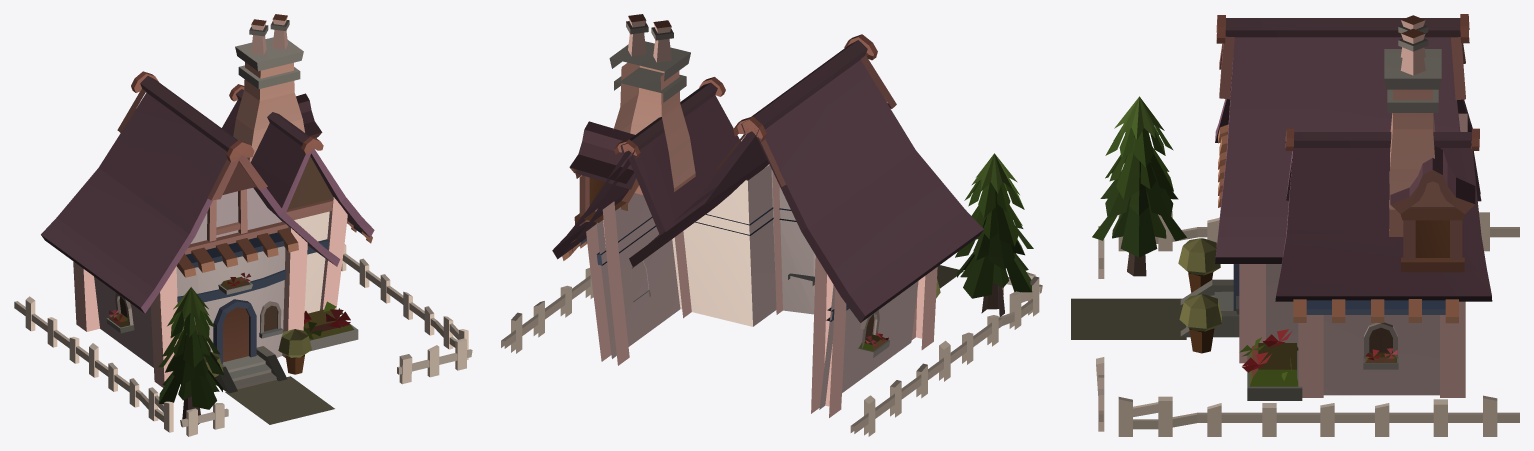
Rendered from building43.fbx.
3 renders of one model, left to right at view 1: azimuth 30°, elevation 25°; view 2: azimuth 150°, elevation 25°; view 3: azimuth 270°, elevation 25°, orthographic. The views are drawn at different scales.
Parts seen in each view (by area): view 1: building43; view 2: building43; view 3: building43.
Part boxes in pixels (x1,y1,x2,y2): building43: (14, 14, 472, 436); building43: (501, 14, 1042, 436); building43: (1071, 14, 1519, 436).
Size of the model in its own units: 2.93 by 2.6 by 2.93.
1 material, 1 textured.
